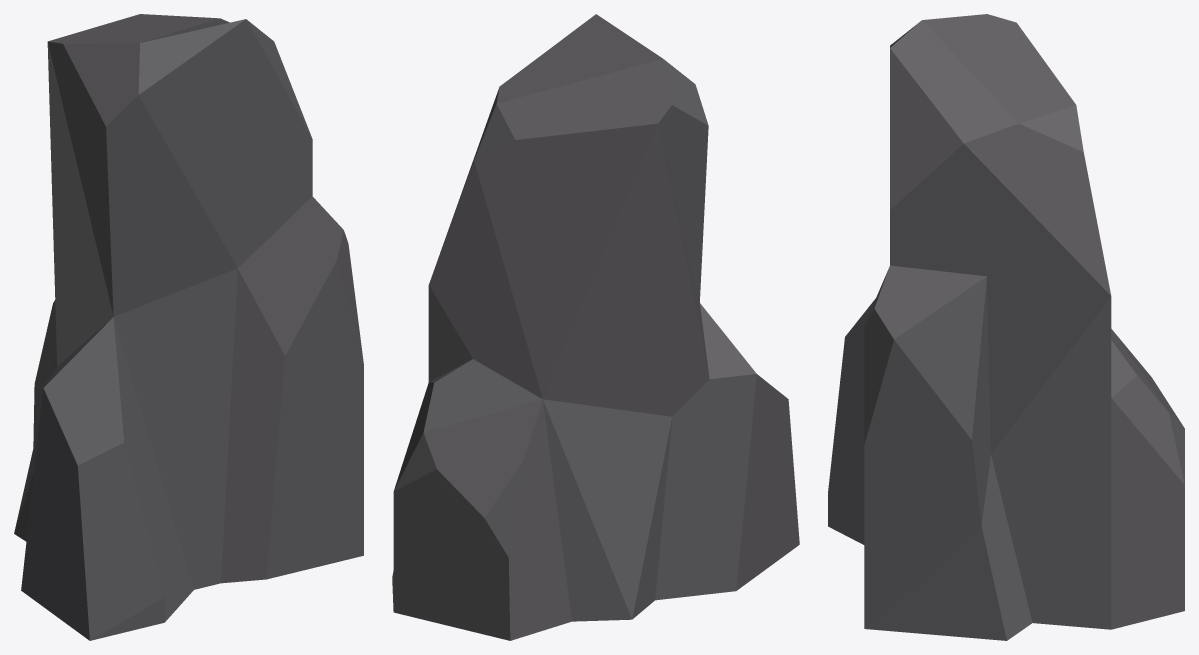
Rendered from mesh_rock_03.fbx.
3 views of the same model, side by side, from view 1: azimuth 30°, elevation 25°; view 2: azimuth 150°, elevation 25°; view 3: azimuth 270°, elevation 25° (orthographic). The views are drawn at different scales.
Parts seen in each view (by area): view 1: mesh_rock_03; view 2: mesh_rock_03; view 3: mesh_rock_03.
Part boxes in pixels (left/top/right/bottom): mesh_rock_03: left=14, top=14, right=363, bottom=640; mesh_rock_03: left=392, top=14, right=799, bottom=640; mesh_rock_03: left=828, top=14, right=1184, bottom=640.
Bounding box in the file's own units: 320 × 530 × 322.
